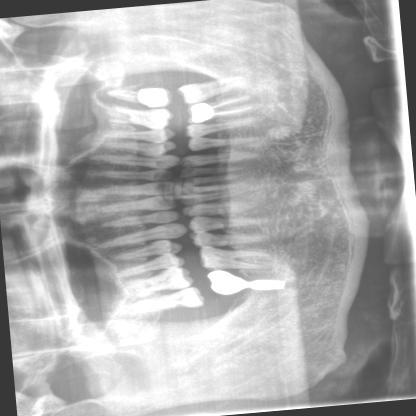Bicon: (244, 276, 290, 292)
